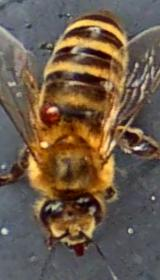varroa_mite: (29, 96, 72, 138)
